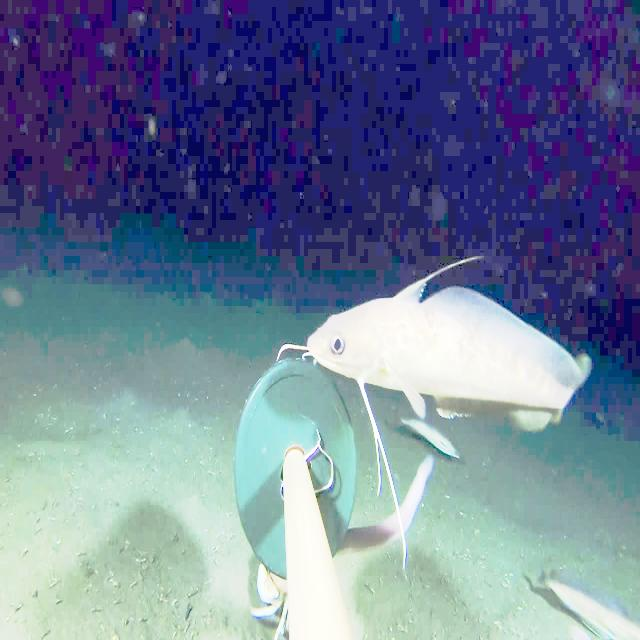eel: (331, 448, 446, 560)
fish: (295, 273, 605, 447), (530, 564, 630, 638), (391, 398, 471, 475), (244, 566, 302, 636)
pole: (232, 353, 358, 639)
